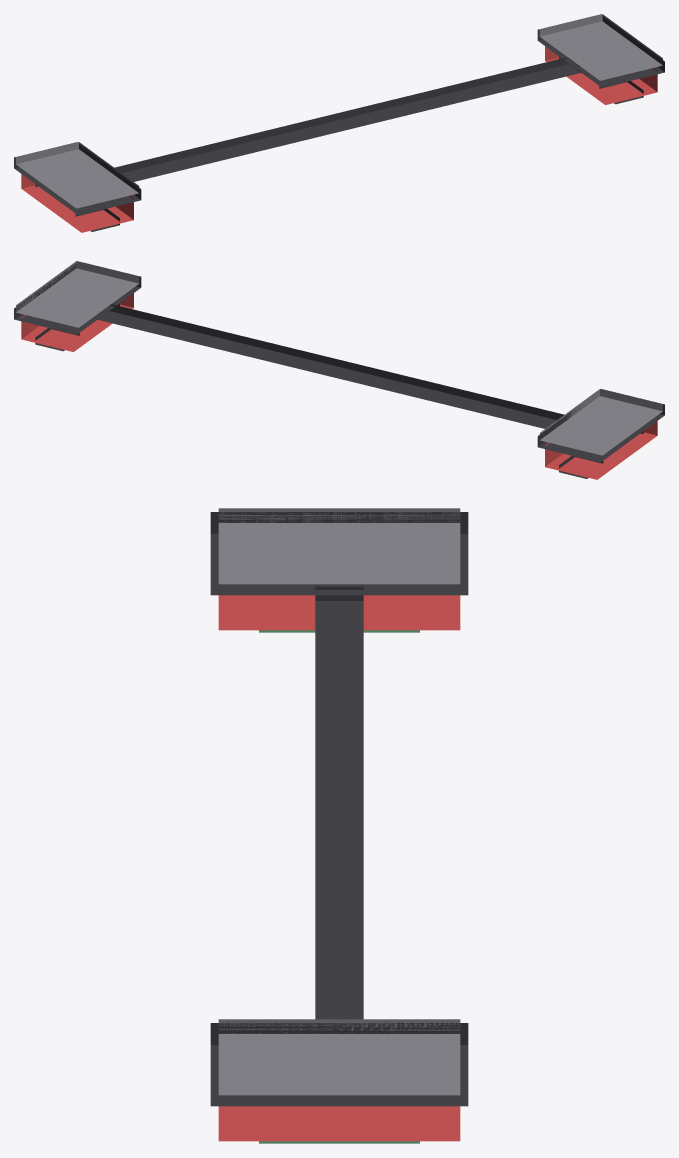
Rendered from shoulder.gltf.
The picture shows the model from 3 angles, top to bottom: view 1: azimuth 30°, elevation 25°; view 2: azimuth 150°, elevation 25°; view 3: azimuth 270°, elevation 25°; orthographic projection. The views are drawn at different scales.
Visible parts, largest first — view 1: shoulder; view 2: shoulder; view 3: shoulder.
Boxes of the visible parts, left/top/right/bottom form: shoulder: left=14, top=14, right=664, bottom=232; shoulder: left=14, top=261, right=664, bottom=479; shoulder: left=210, top=508, right=468, bottom=1143.
Bounding box in the file's own units: 0.168 × 0.01 × 0.032.
